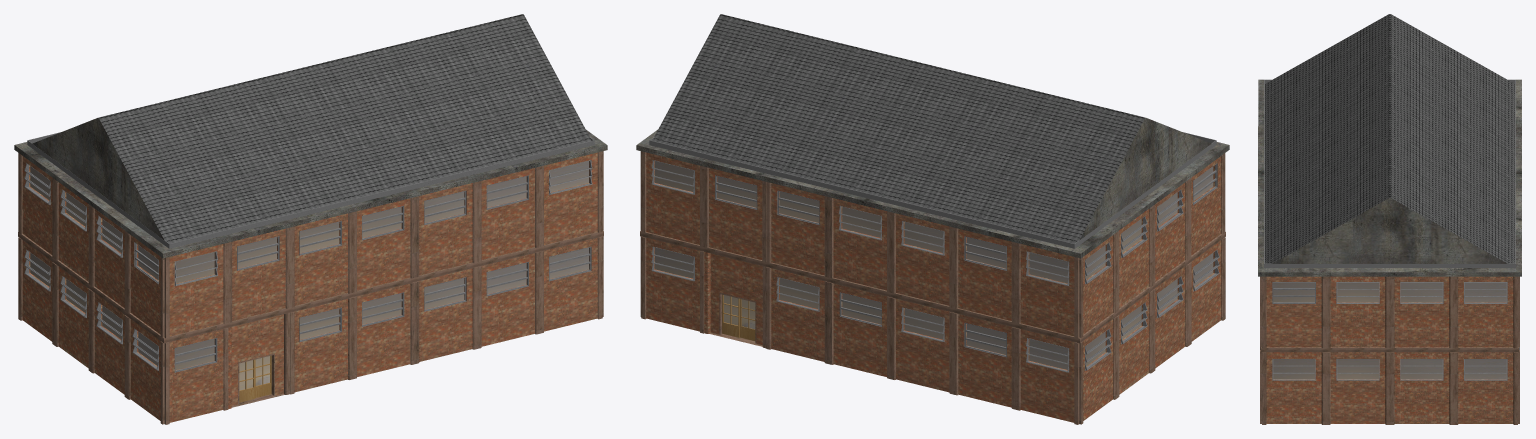
File: Building_2Stores_StockHouse.obj
3 views of the same model, side by side, from view 1: azimuth 30°, elevation 25°; view 2: azimuth 150°, elevation 25°; view 3: azimuth 270°, elevation 25° (orthographic). The views are drawn at different scales.
Parts seen in each view (by area): view 1: Building_2Stores_StockHouse; view 2: Building_2Stores_StockHouse; view 3: Building_2Stores_StockHouse.
Part boxes in pixels (<box>): Building_2Stores_StockHouse: <box>14,14,607,424</box>; Building_2Stores_StockHouse: <box>636,14,1229,424</box>; Building_2Stores_StockHouse: <box>1258,14,1521,424</box>.
Size of the model in its own units: 9.35 by 5.06 by 5.41.
10 materials, 10 textured.
